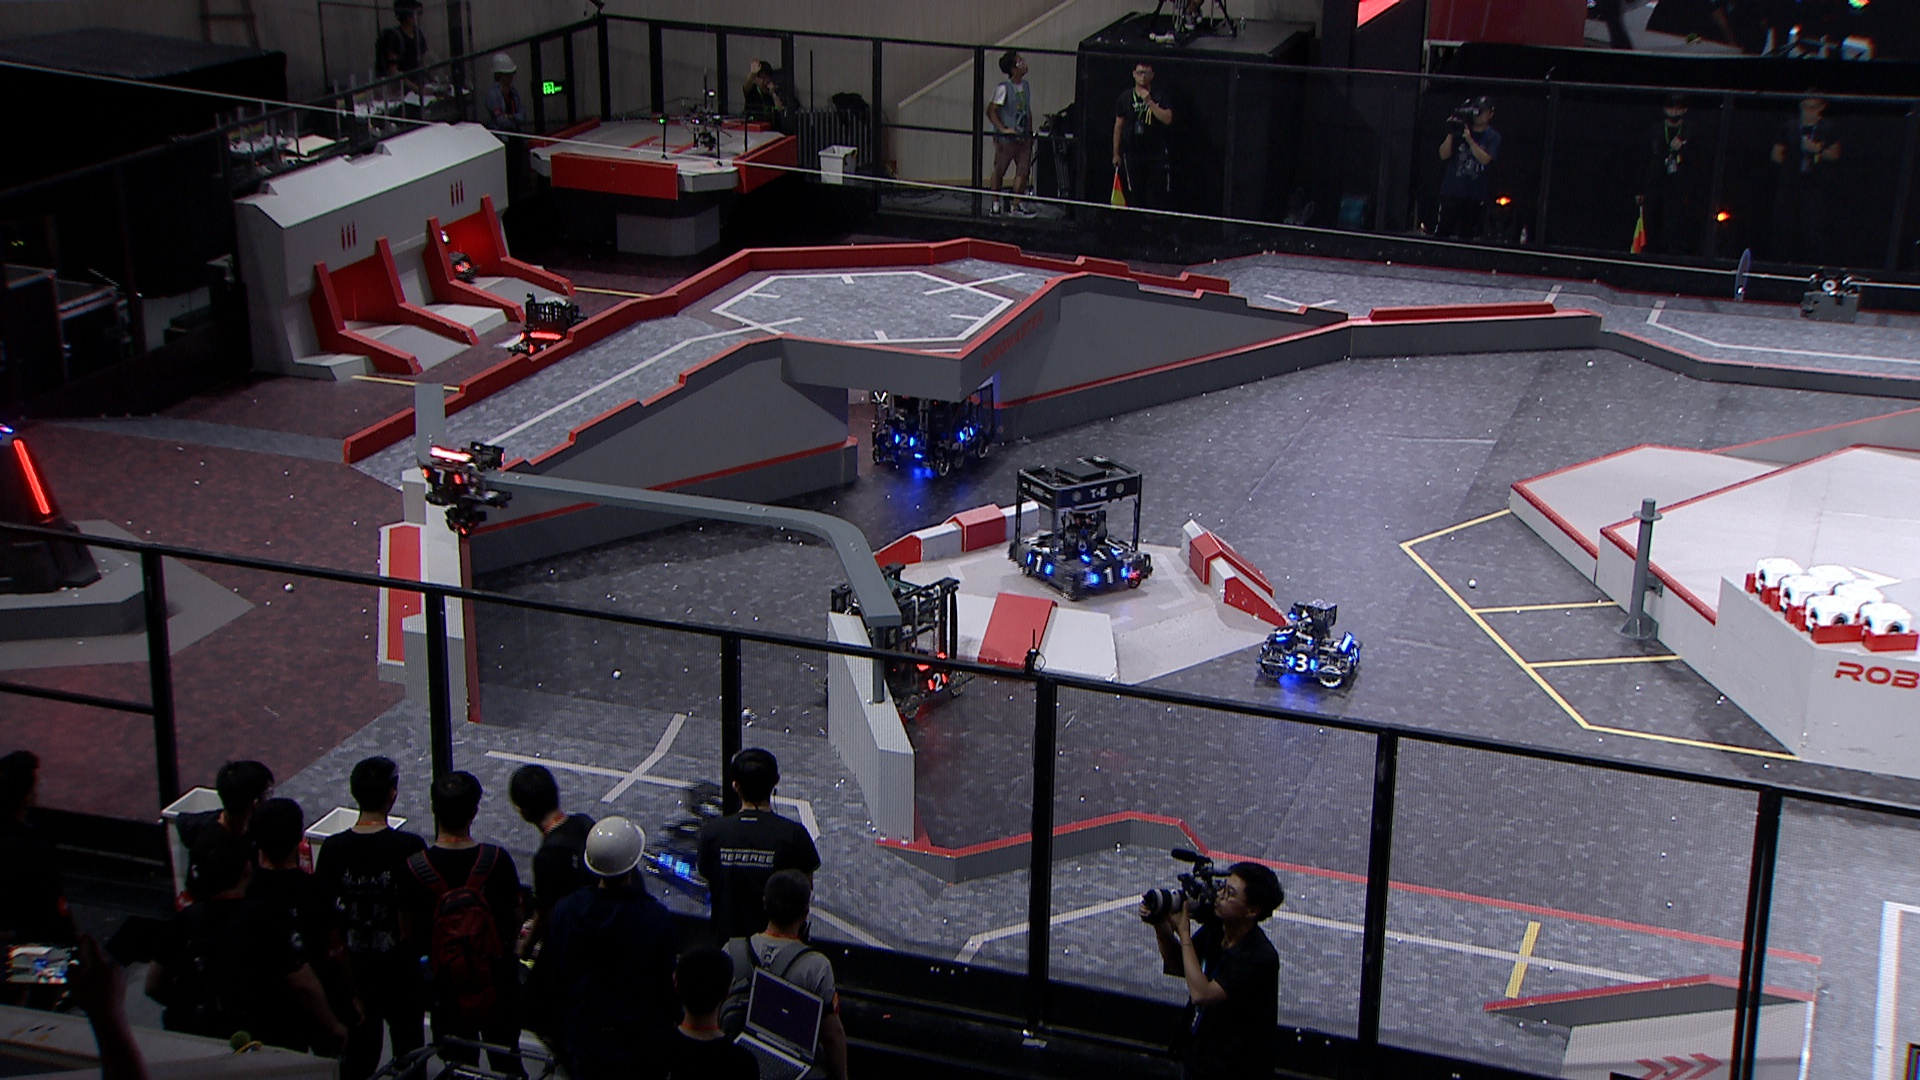armor: (12, 436, 51, 518), (419, 467, 462, 488), (654, 855, 686, 878), (1092, 564, 1127, 584), (1083, 546, 1116, 566), (1286, 654, 1313, 673), (1025, 553, 1050, 572), (923, 671, 948, 690), (893, 433, 916, 451), (959, 425, 975, 444), (527, 342, 549, 356), (1275, 626, 1294, 641), (1348, 645, 1360, 666), (454, 258, 472, 272)
car: (820, 564, 973, 717), (1006, 448, 1153, 599), (645, 770, 789, 907), (864, 353, 1004, 477), (1253, 599, 1365, 690), (504, 295, 607, 378), (427, 224, 491, 289)
watcher: (414, 436, 512, 541)
